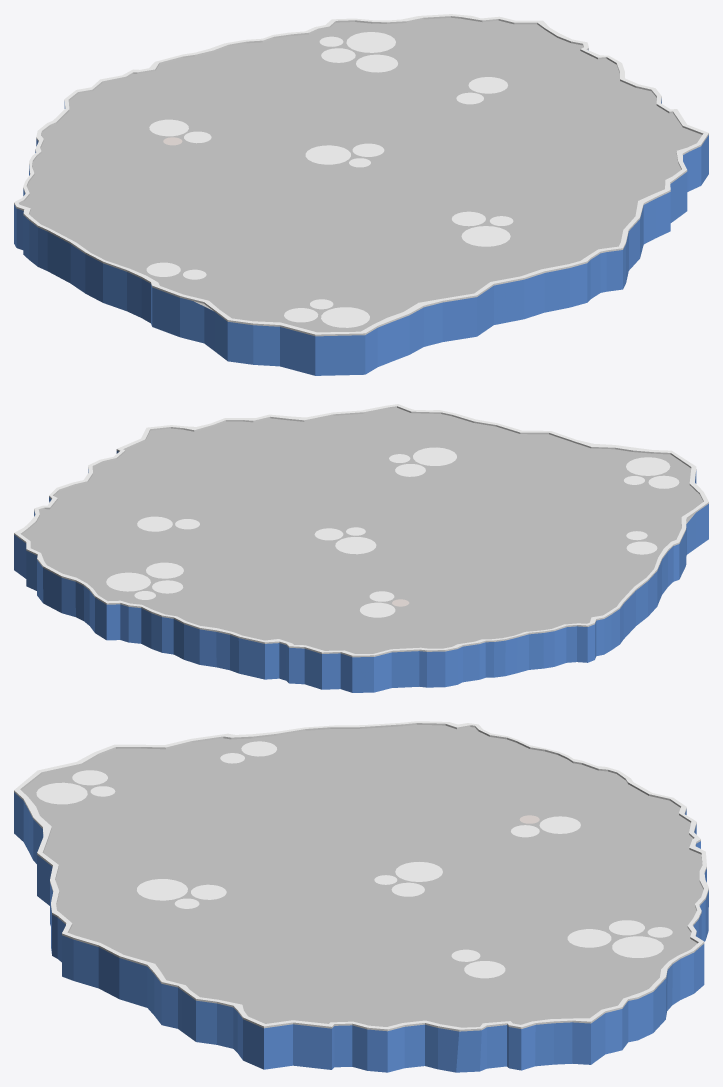
Rendered from Island_3.fbx.
The picture shows the model from 3 angles, top to bottom: view 1: azimuth 30°, elevation 25°; view 2: azimuth 150°, elevation 25°; view 3: azimuth 270°, elevation 25°; orthographic projection. The views are drawn at different scales.
Parts seen in each view (by area): view 1: Island_3; view 2: Island_3; view 3: Island_3.
Part boxes in pixels (<box>): Island_3: <box>14,14,708,375</box>; Island_3: <box>14,404,708,692</box>; Island_3: <box>14,721,708,1072</box>.
Size of the model in its own units: 128 by 8.37 by 122.
